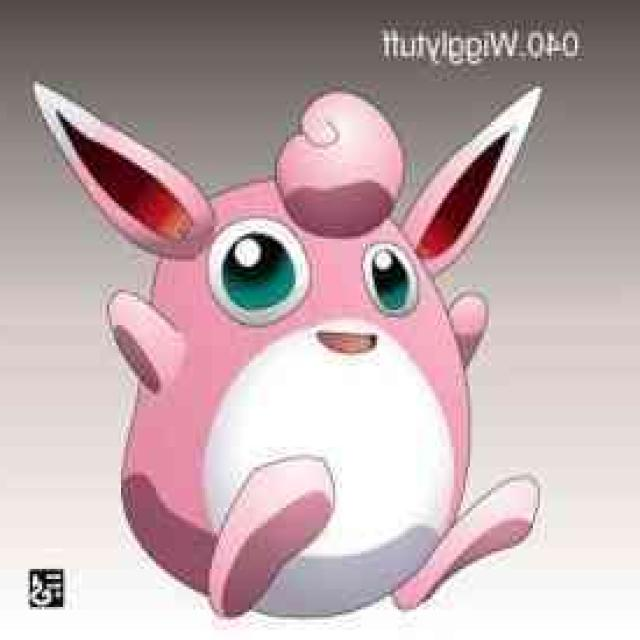Wigglytuff: (104, 91, 488, 609)
